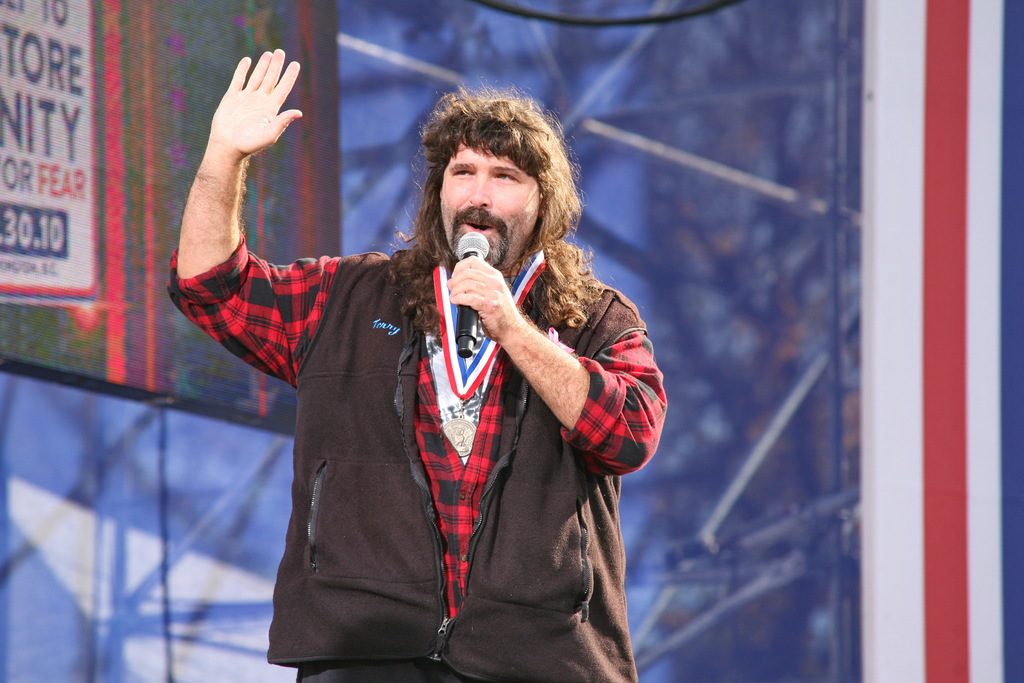Human_hand: (201, 47, 296, 157), (443, 253, 522, 344)
